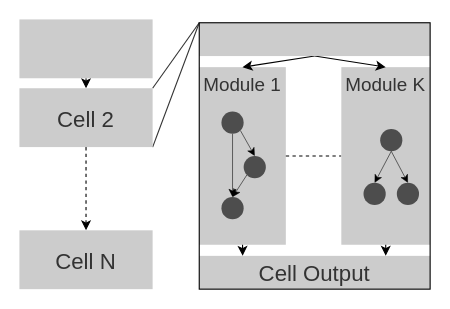
Image size: 450x309. Some labels were removed from this diagram. The shapes that lost their labels are listed below. From the top down, each one's centre as x and y in pixels, then its label:
the point at 85,48: Cell 1
the point at 314,39: Cell Input
